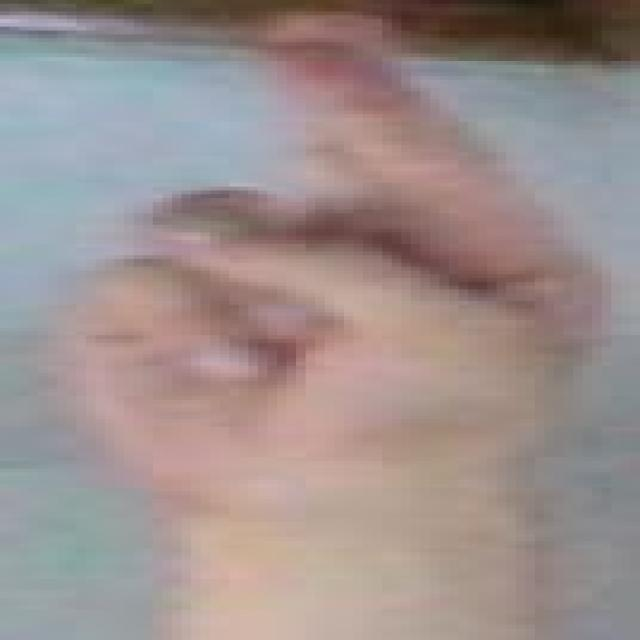R: (34, 0, 626, 584)
